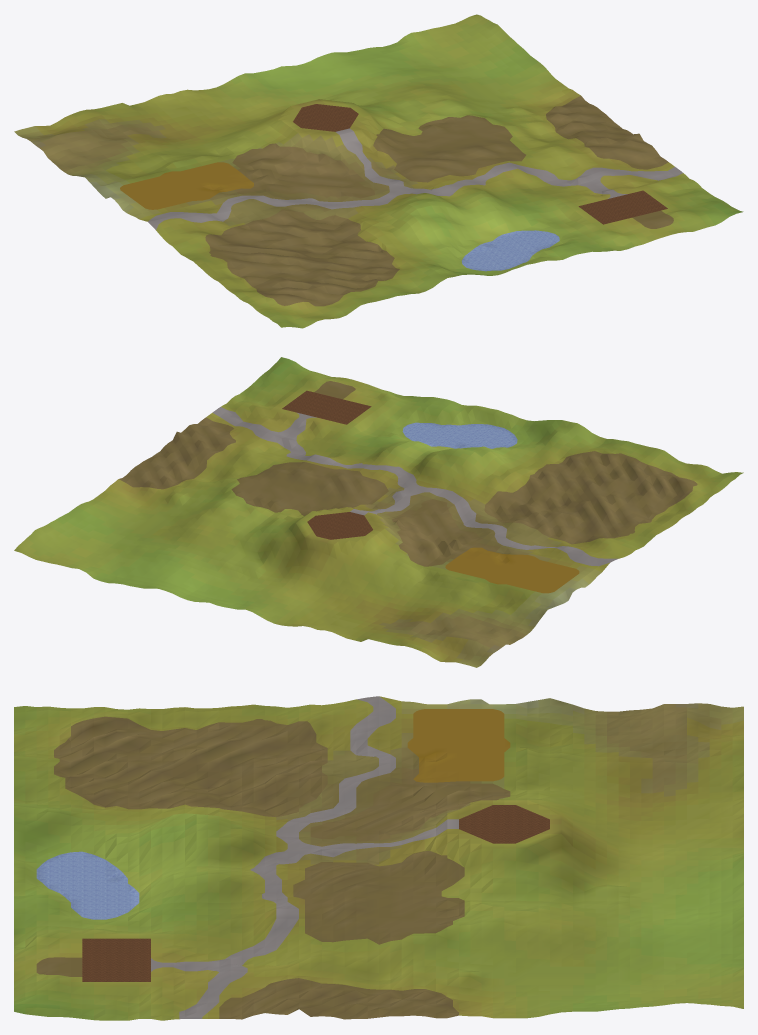
The picture shows the model from 3 angles, top to bottom: view 1: azimuth 30°, elevation 25°; view 2: azimuth 150°, elevation 25°; view 3: azimuth 270°, elevation 25°; orthographic projection. The views are drawn at different scales.
Visible parts, largest first — view 1: model; view 2: model; view 3: model.
Boxes of the visible parts, x1,y1,x2,y2 form: model: [14, 14, 743, 328]; model: [14, 357, 743, 667]; model: [14, 696, 743, 1020].
Bounding box in the file's own units: 64 × 4.25 × 64.
3 materials, 2 textured.
